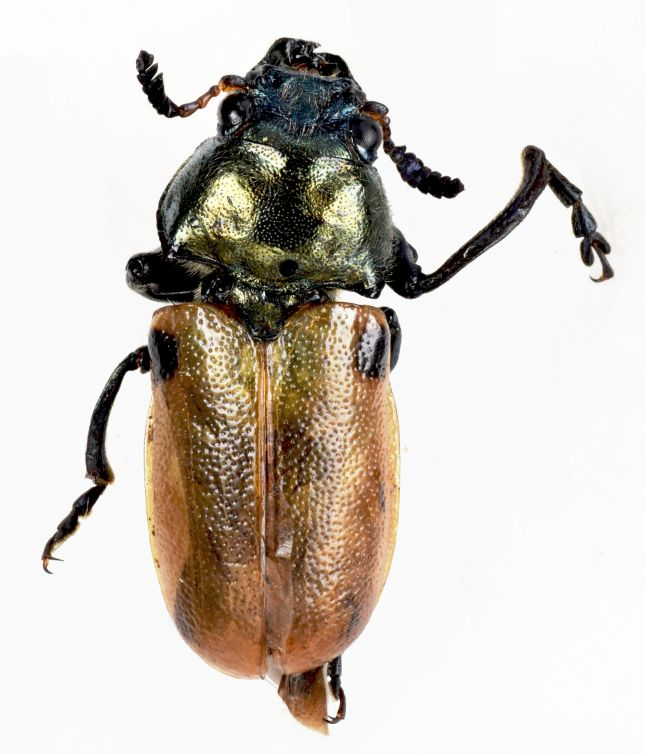Labidostomis_propinqua: (43, 20, 625, 745)
